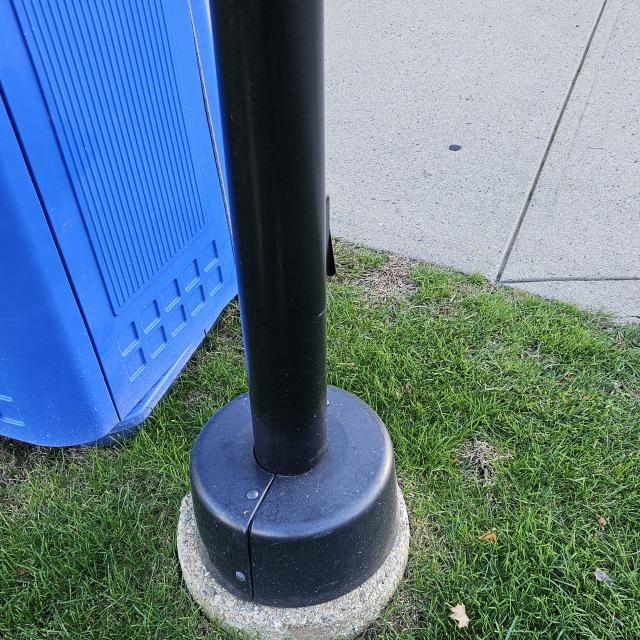Filiform Corrosion: (250, 532, 385, 607), (254, 492, 280, 532)
